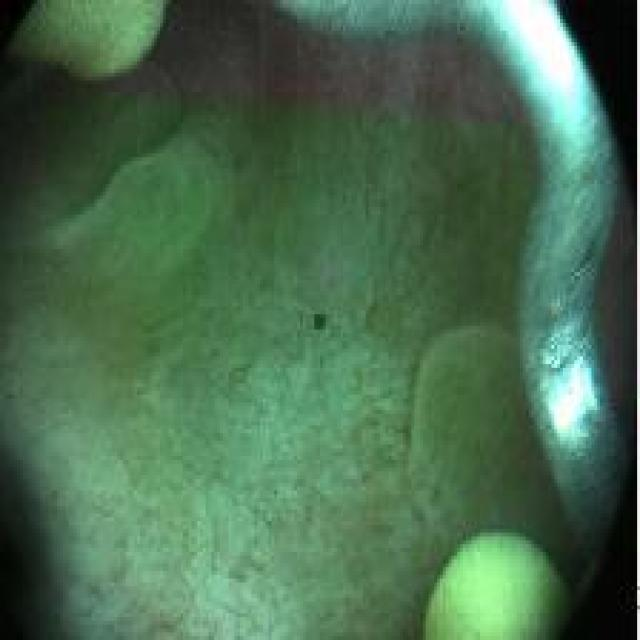color misalignment: (310, 305, 334, 339)
contrast: (3, 52, 97, 174), (5, 468, 73, 632)
instrument: (498, 7, 624, 574), (281, 6, 587, 67), (423, 530, 575, 637), (9, 2, 178, 76)
specularity: (510, 9, 584, 115), (548, 368, 599, 449)
